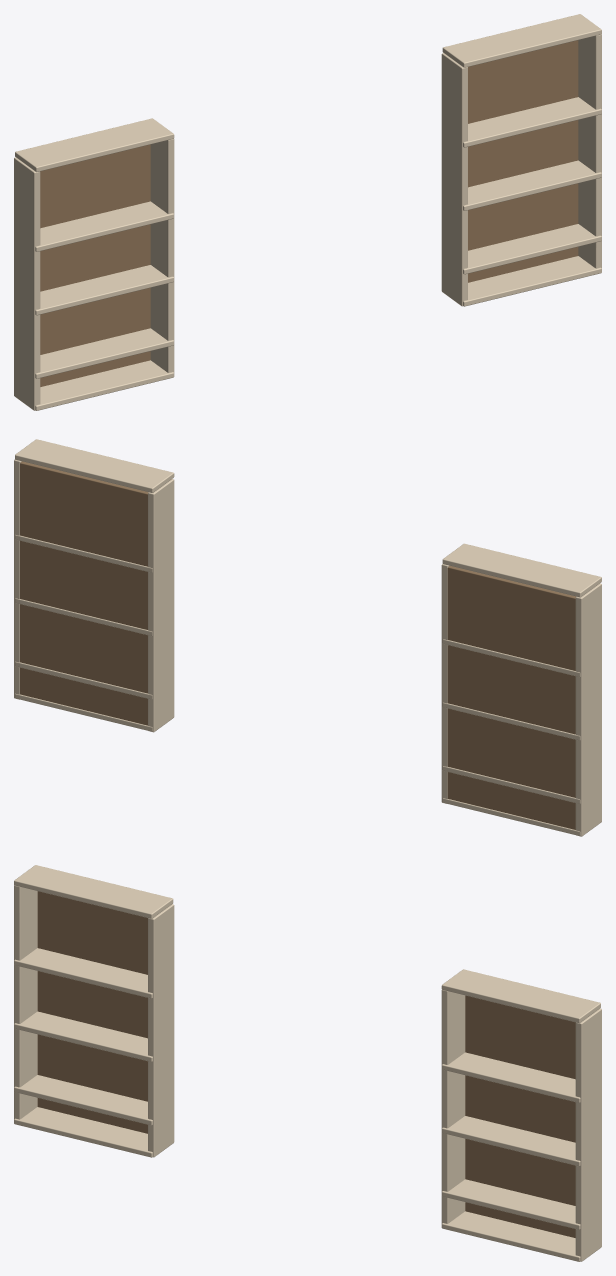
File: studio-furniture-v3.glb
The picture shows the model from 3 angles, top to bottom: view 1: azimuth 30°, elevation 25°; view 2: azimuth 150°, elevation 25°; view 3: azimuth 330°, elevation 25°; orthographic projection.
Parts seen in each view (by area): view 1: Inset cabinet back (×2), Recessed shelf (×10), Cabinet side (×4); view 2: Inset cabinet back (×2), Cabinet side (×4), Recessed shelf (×10); view 3: Inset cabinet back (×2), Recessed shelf (×10), Cabinet side (×4).
Boxes of the visible parts, box(x1,y1,x2,y2) form: Inset cabinet back (×2): box(40, 40, 578, 386); Recessed shelf (×10): box(15, 14, 601, 410); Cabinet side (×4): box(14, 34, 601, 410); Inset cabinet back (×2): box(20, 461, 575, 829); Cabinet side (×4): box(14, 459, 601, 836); Recessed shelf (×10): box(15, 439, 601, 835); Inset cabinet back (×2): box(37, 891, 575, 1237); Recessed shelf (×10): box(14, 865, 600, 1261); Cabinet side (×4): box(14, 885, 601, 1261).
Size of the model in its own units: 7.97 by 3.28 by 0.53.
